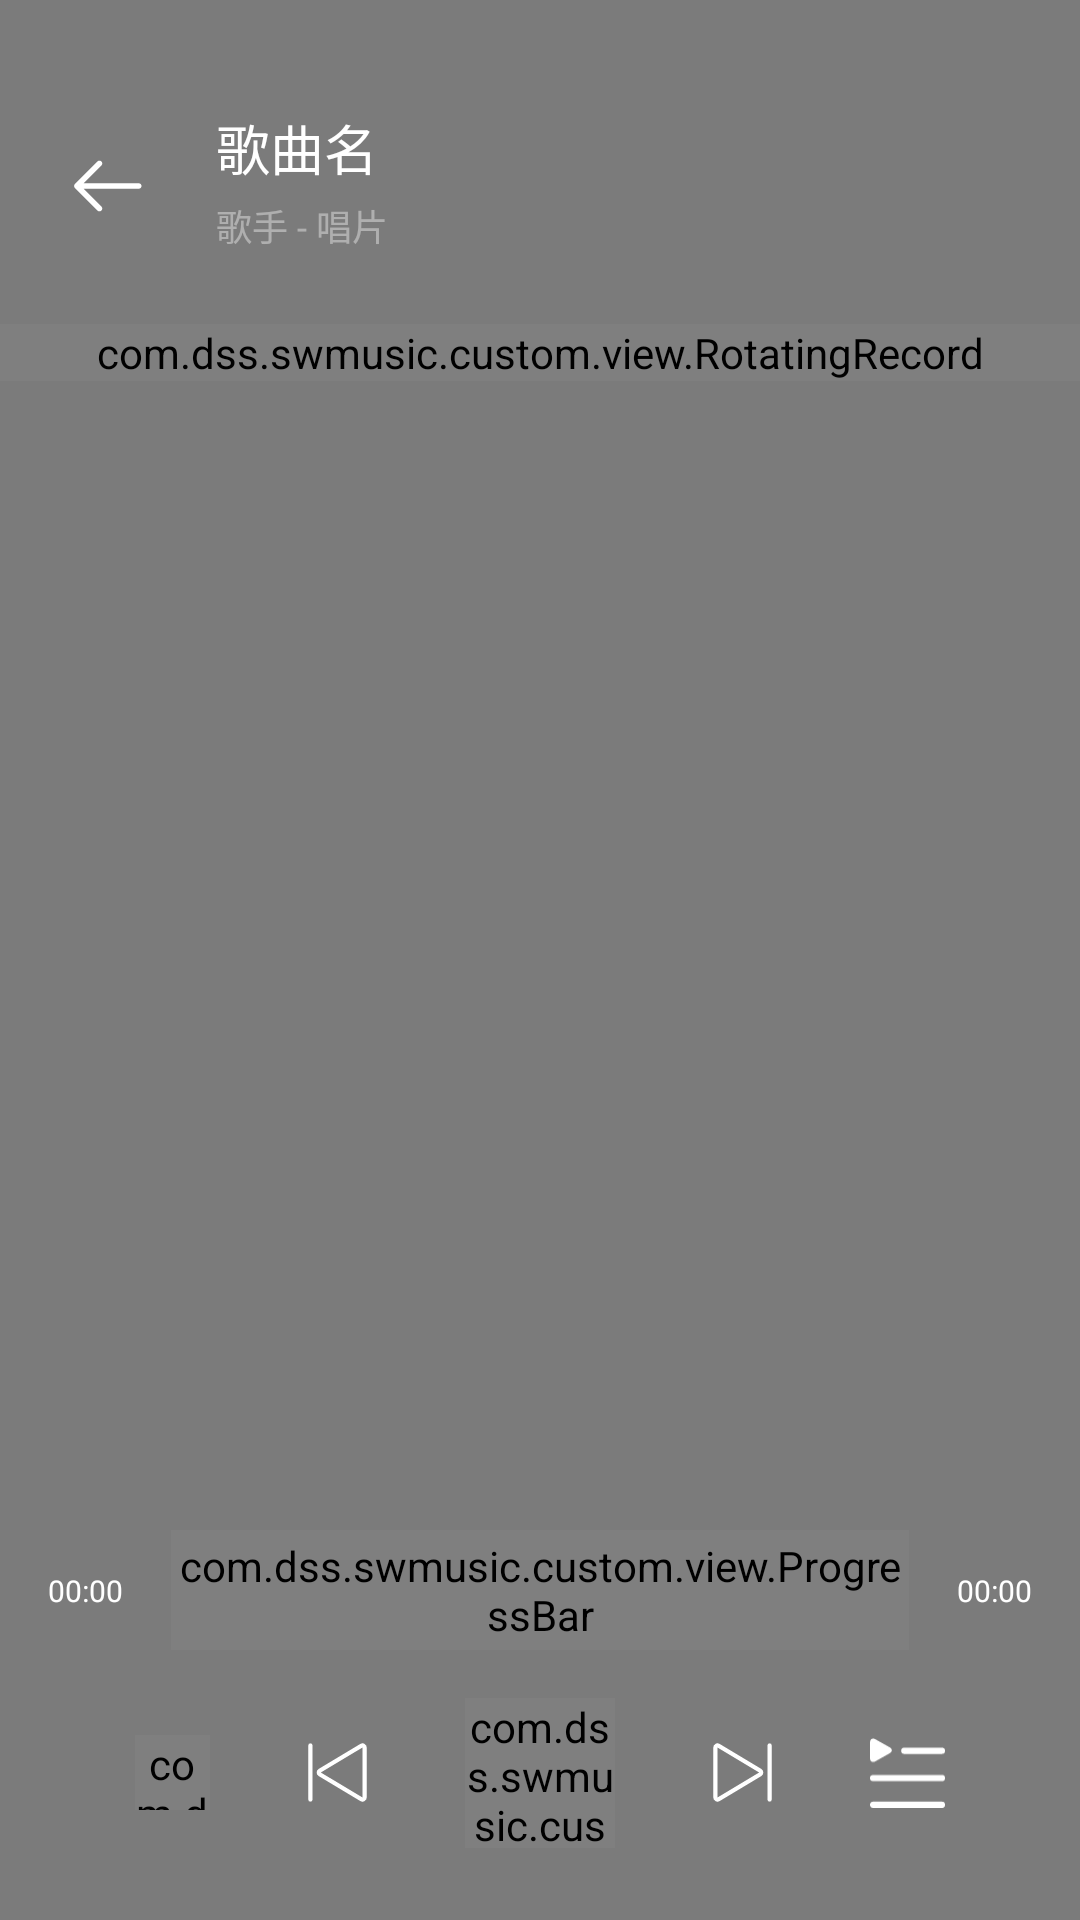

Point at icon controls on the screen. Image size 1080px×1920px, points as [x,y].
last song: [337,1772]
next song: [742,1772]
play list: [907,1773]
return: [108,186]
